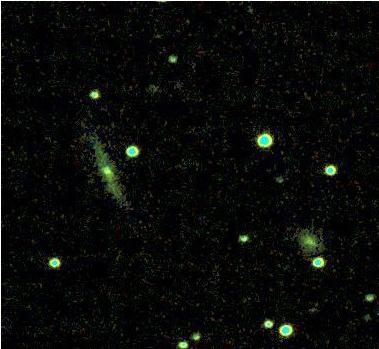star: (93, 152, 123, 182)
